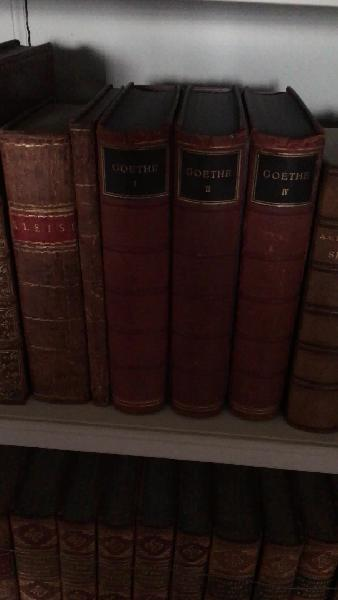Aa6-10: (65, 126, 122, 408)
Aa6-11_13: (102, 122, 307, 423)
Aa6-9: (3, 134, 91, 409)
